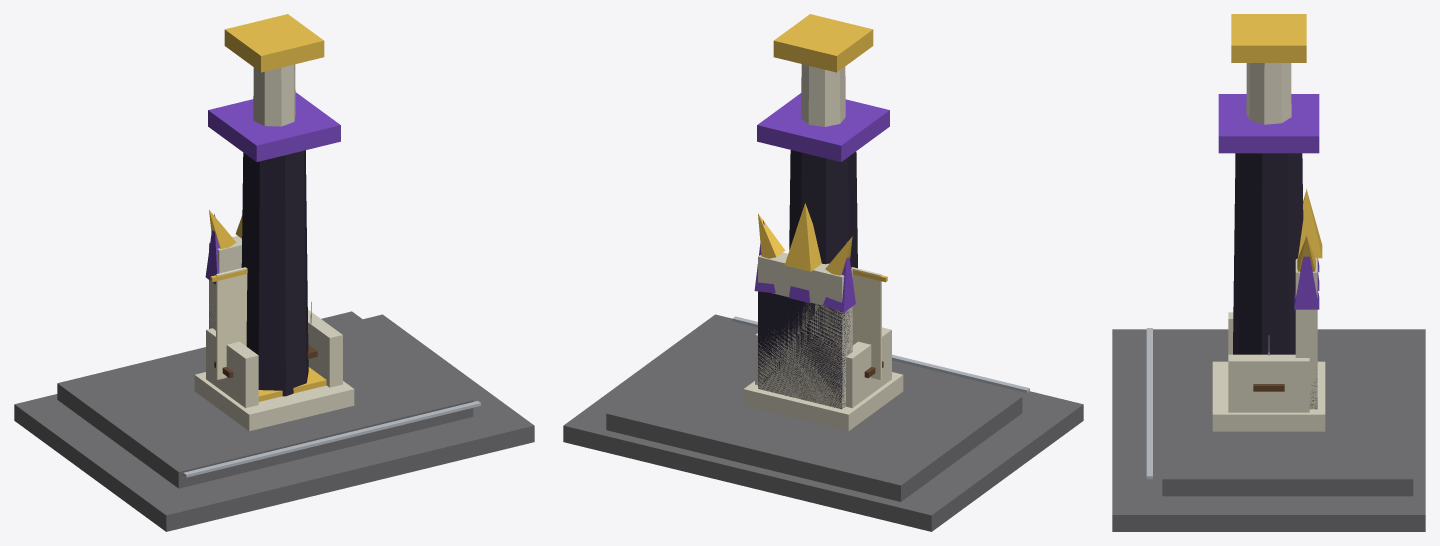
Rendered from Env_ThroneRoom.obj.
3 renders of one model, left to right at view 1: azimuth 30°, elevation 25°; view 2: azimuth 150°, elevation 25°; view 3: azimuth 270°, elevation 25°, orthographic. The views are drawn at different scales.
Visible parts, largest first — view 1: Env_ThroneRoom_Dais, Env_ThroneRoom_HallPillar_Dark, Env_ThroneRoom_Throne_Light, Env_ThroneRoom_HallPillar_Light, Env_ThroneRoom_Banner_Light; view 2: Env_ThroneRoom_Dais, Env_ThroneRoom_Throne_Light, Env_ThroneRoom_HallPillar_Dark, Env_ThroneRoom_Throne_Dark, Env_ThroneRoom_HallPillar_Light, Env_ThroneRoom_Banner_Light; view 3: Env_ThroneRoom_Dais, Env_ThroneRoom_HallPillar_Dark, Env_ThroneRoom_Throne_Light, Env_ThroneRoom_HallPillar_Light, Env_ThroneRoom_Throne_Dark.
Boxes of the visible parts, <box> form: Env_ThroneRoom_Dais: <box>14,311,534,531</box>; Env_ThroneRoom_HallPillar_Dark: <box>208,92,340,396</box>; Env_ThroneRoom_Throne_Light: <box>194,210,354,431</box>; Env_ThroneRoom_HallPillar_Light: <box>224,14,324,126</box>; Env_ThroneRoom_Banner_Light: <box>210,267,247,379</box>; Env_ThroneRoom_Dais: <box>563,314,1083,531</box>; Env_ThroneRoom_Throne_Light: <box>743,203,903,431</box>; Env_ThroneRoom_HallPillar_Dark: <box>757,93,889,268</box>; Env_ThroneRoom_Throne_Dark: <box>754,220,855,409</box>; Env_ThroneRoom_HallPillar_Light: <box>773,14,873,126</box>; Env_ThroneRoom_Banner_Light: <box>851,267,887,379</box>; Env_ThroneRoom_Dais: <box>1112,328,1425,531</box>; Env_ThroneRoom_HallPillar_Dark: <box>1218,94,1319,354</box>; Env_ThroneRoom_Throne_Light: <box>1212,189,1325,431</box>; Env_ThroneRoom_HallPillar_Light: <box>1231,14,1306,124</box>; Env_ThroneRoom_Throne_Dark: <box>1294,256,1319,408</box>.
Size of the model in its own units: 7 by 7.2 by 5.
